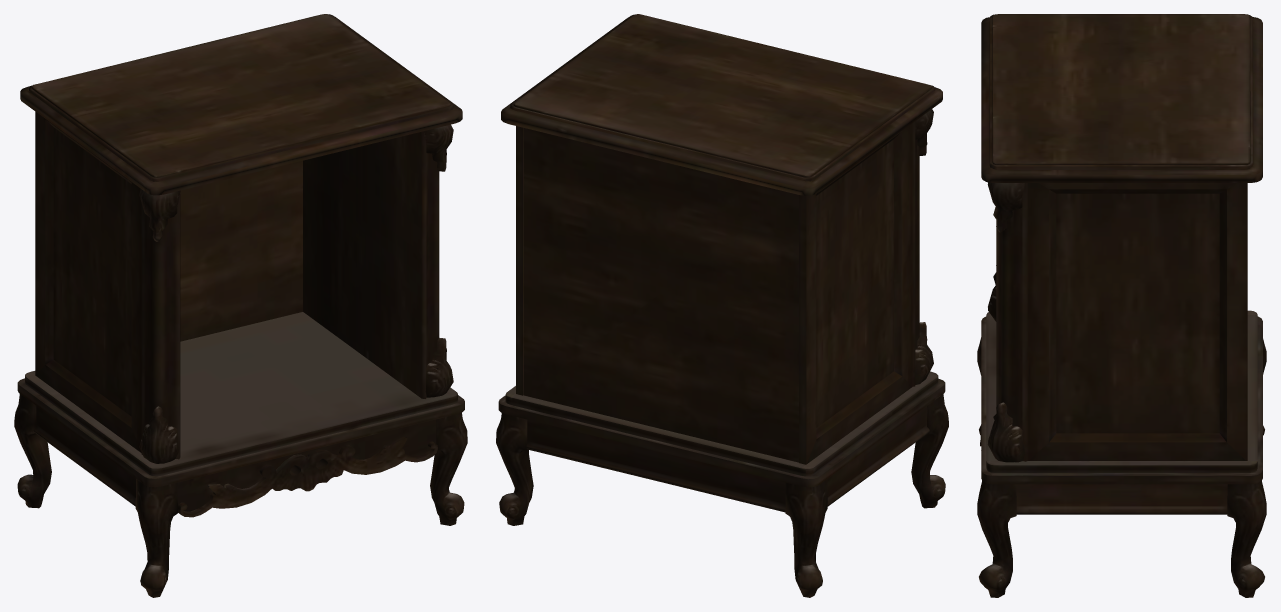
The model's file is ClassicNightstand_01.glb.
The picture shows the model from 3 angles, left to right: view 1: azimuth 30°, elevation 25°; view 2: azimuth 150°, elevation 25°; view 3: azimuth 270°, elevation 25°; orthographic projection. The views are drawn at different scales.
Visible parts, largest first — view 1: ClassicNightstand_01; view 2: ClassicNightstand_01; view 3: ClassicNightstand_01.
Boxes of the visible parts, x1=… form: ClassicNightstand_01: x1=14, y1=14, x2=467, y2=597; ClassicNightstand_01: x1=496, y1=14, x2=948, y2=597; ClassicNightstand_01: x1=977, y1=14, x2=1266, y2=597.
Size of the model in its own units: 0.5678 by 0.7 by 0.4242.
Materials: 1 (1 with a texture image).
